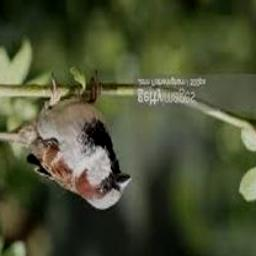Sparrow: (0, 71, 130, 210)
